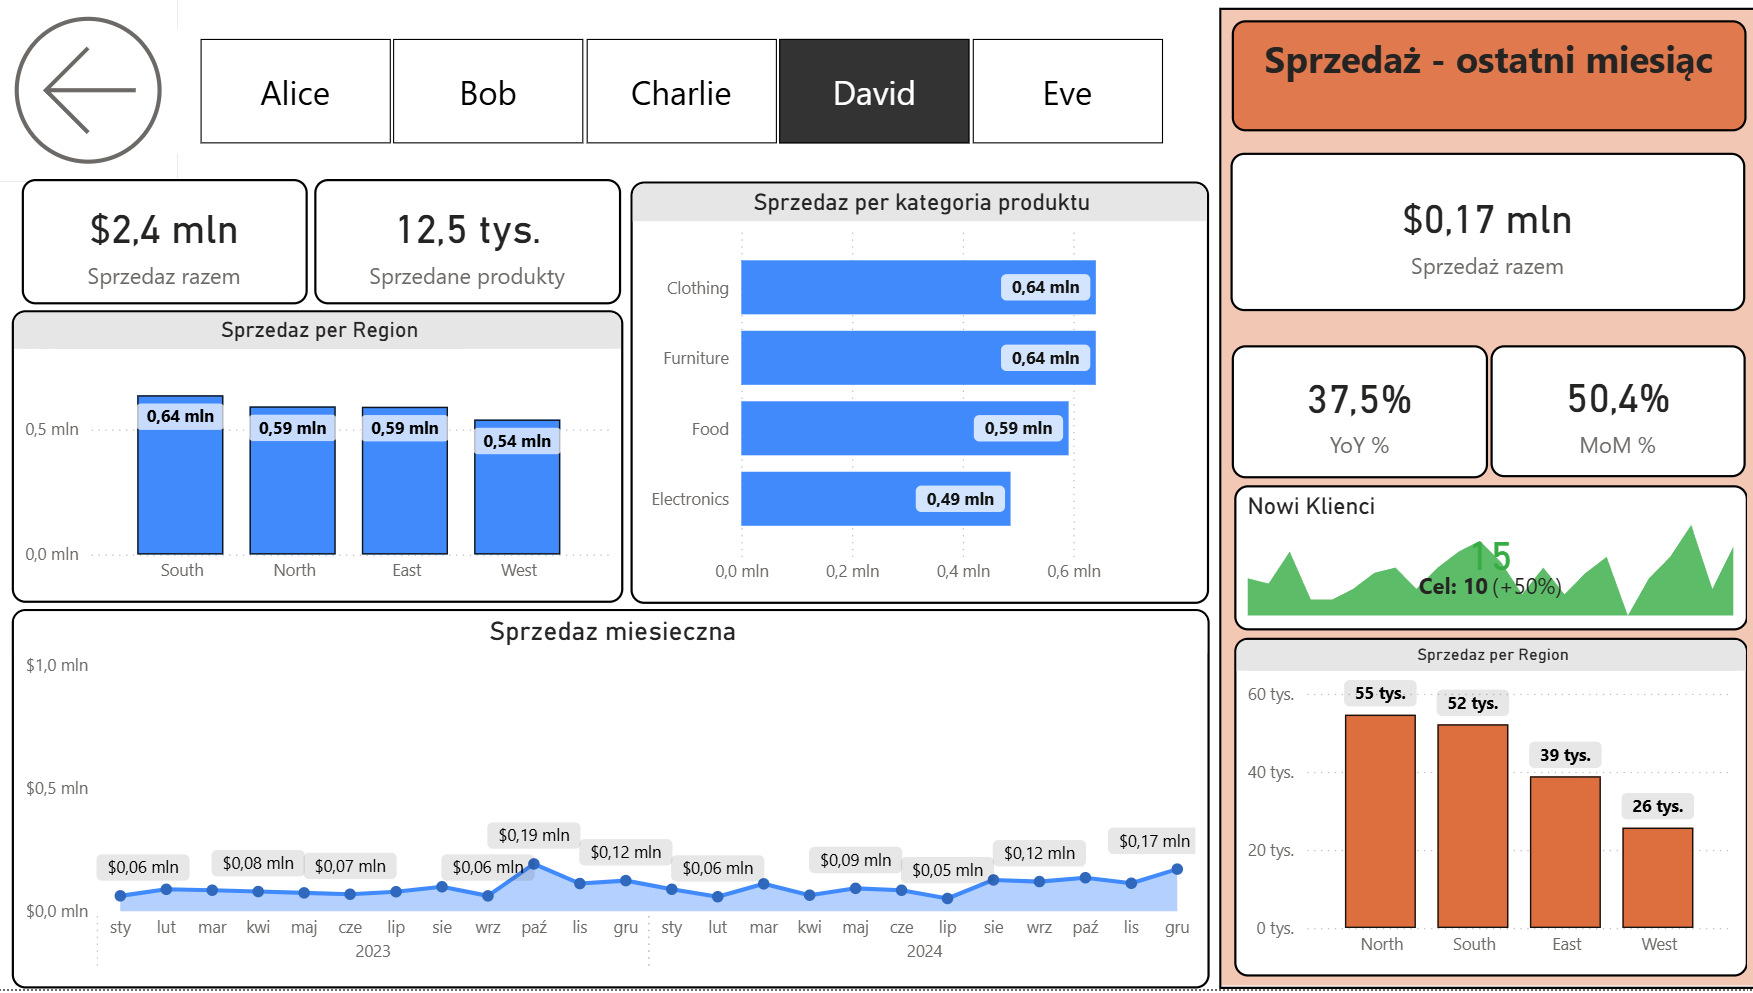

This screenshot's page, from the dashboard's own definition file:
{"tool":"powerbi","page":{"name":"Wyniki pracowników","canvas":[1280,720],"ordinal":2},"visuals":[{"type":"actionButton","box":[0,0,131.1,132.9],"z":0},{"type":"shape","box":[888.1,6.3,392.1,713.5],"z":1001},{"type":"areaChart","title":"Sprzedaz miesieczna","fields":{"Category":["Calendar.rok Hierarchia.rok","Calendar.rok Hierarchia.month_name"],"Y":["total_sales.Total Sales"]},"box":[9.9,444,871.4,275.8],"z":1002},{"type":"card","fields":{"Values":["sales_data (3).Quantity_Sold"]},"box":[230.1,131.4,223.1,91.2],"z":1003},{"type":"card","title":"tot","fields":{"Values":["total_sales.Total Sales"]},"box":[16.9,131.4,207.7,91.2],"z":1006},{"type":"clusteredBarChart","title":"Sprzedaz per kategoria produktu","fields":{"Category":["total_sales.Product_Category"],"Y":["total_sales.Sales_Amount"]},"box":[460.3,132.5,420.6,307.1],"z":1007},{"type":"textbox","box":[896.8,15.1,374.6,81],"z":1008},{"type":"card","fields":{"Values":["total_sales.YoY %"]},"box":[897.1,252.2,186.6,96.7],"z":1009},{"type":"card","fields":{"Values":["total_sales.MoM %"]},"box":[1085.6,252.2,185.6,96.2],"z":1010},{"type":"card","title":"tot","fields":{"Values":["total_sales.Total Sales"]},"box":[896,111.9,374.6,115.1],"z":1011},{"type":"kpi","title":"Nowi Klienci","fields":{"TrendLine":["Calendar.RokOkres"],"Indicator":["total_sales.Nowi_Klienci"],"Goal":["total_sales.Cel nowi klienci 1 osoba"]},"box":[899.2,353.8,373.5,105.3],"z":1012},{"type":"clusteredColumnChart","title":"Sprzedaz per Region","fields":{"Category":["sales_data (3).Region"],"Y":["total_sales.Sales_Amount"]},"box":[899.2,464.8,373.4,246.1],"z":1013},{"type":"clusteredColumnChart","title":"Sprzedaz per Region","fields":{"Category":["sales_data (3).Region"],"Y":["total_sales.Sales_Amount"]},"box":[9.7,226.8,444.7,212.6],"z":1014},{"type":"slicer","fields":{"Values":["total_sales.Sales_Rep"]},"box":[120.6,21.4,750,90.5],"z":1015}]}

Visuals, with their boxes in screenshot pixels (x1, y1, x2, y2), scaled from the page's 1280x720 canvas onto the 1753x993 screenshot:
actionButton: select_region(0, 0, 180, 183)
shape: select_region(1216, 9, 1752, 992)
"Sprzedaz miesieczna" areaChart: select_region(14, 612, 1207, 992)
card - sales_data (3).Quantity_Sold: select_region(315, 181, 621, 307)
"tot" card: select_region(23, 181, 308, 307)
"Sprzedaz per kategoria produktu" clusteredBarChart: select_region(630, 183, 1206, 606)
textbox: select_region(1228, 21, 1741, 133)
card - total_sales.YoY %: select_region(1229, 348, 1484, 481)
card - total_sales.MoM %: select_region(1487, 348, 1741, 481)
"tot" card: select_region(1227, 154, 1740, 313)
"Nowi Klienci" kpi: select_region(1231, 488, 1743, 633)
"Sprzedaz per Region" clusteredColumnChart: select_region(1231, 641, 1743, 980)
"Sprzedaz per Region" clusteredColumnChart: select_region(13, 313, 622, 606)
slicer - total_sales.Sales_Rep: select_region(165, 30, 1192, 154)
